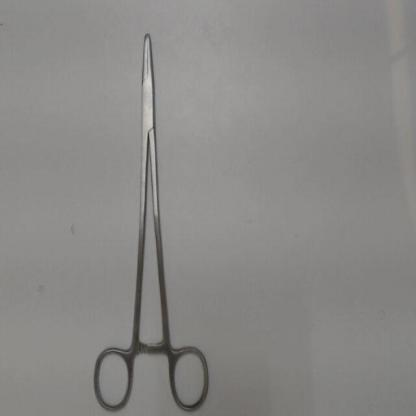8 Mayo Needle Holder: (86, 13, 220, 414)
